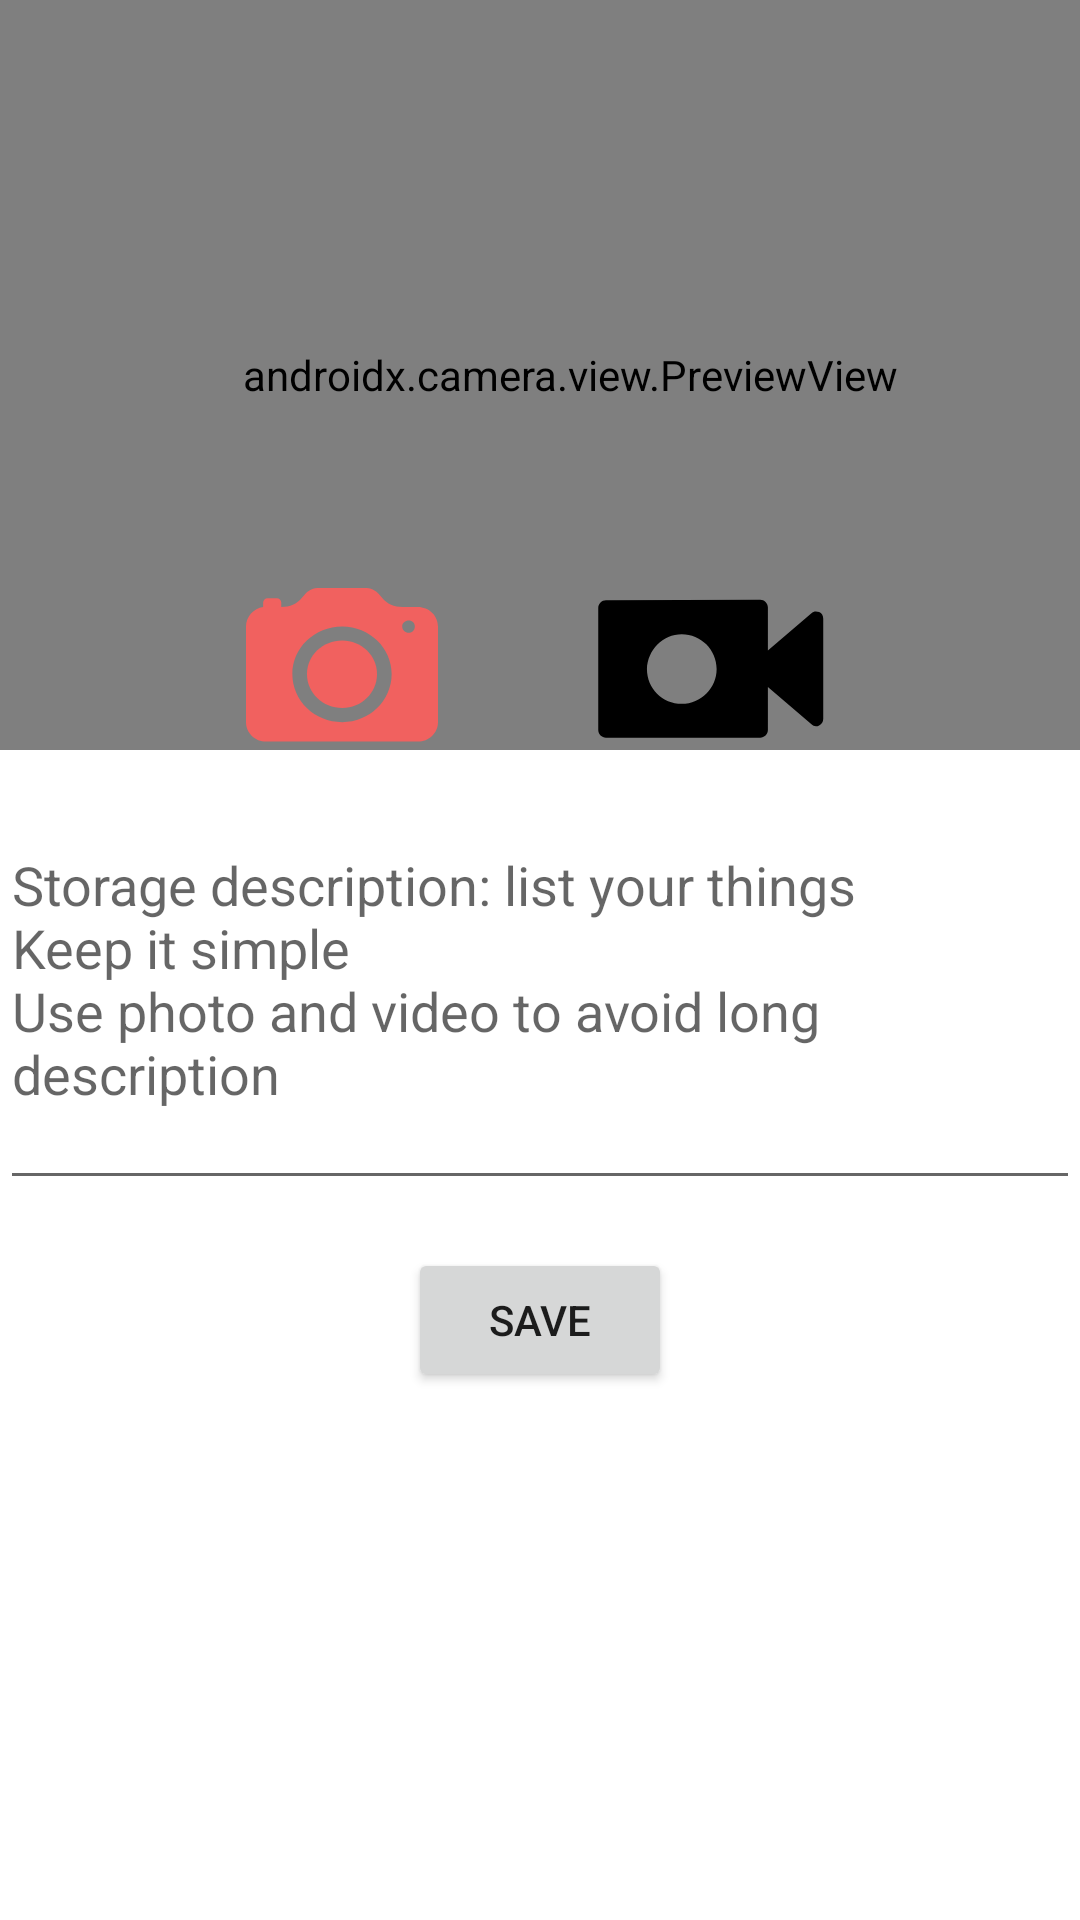

Point at icon controls on the screen. Image size 1080px×1920px, points as (x,y).
shoot: (342,665)
videocamera: (711,668)
